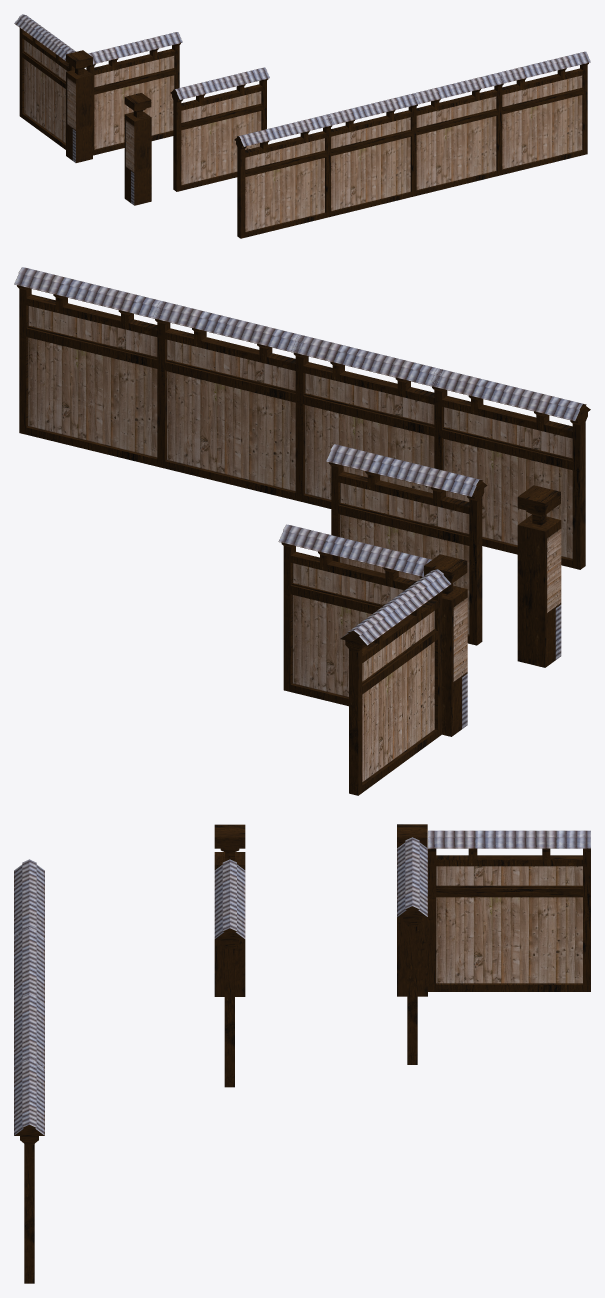
Rendered from japanese_style_fence.glb.
The picture shows the model from 3 angles, top to bottom: view 1: azimuth 30°, elevation 25°; view 2: azimuth 150°, elevation 25°; view 3: azimuth 270°, elevation 25°; orthographic projection. The views are drawn at different scales.
Parts seen in each view (by area): view 1: MainFence_4, MainFenceCorner, MainFence, FenceCornerPost; view 2: MainFence_4, MainFenceCorner, MainFence, FenceCornerPost; view 3: MainFenceCorner, MainFence_4, MainFence, FenceCornerPost.
Part boxes in pixels (box(x1,y1,x2,y2)): MainFence_4: box(234, 51, 590, 238); MainFenceCorner: box(14, 14, 182, 162); MainFence: box(170, 67, 269, 191); FenceCornerPost: box(124, 93, 151, 205); MainFence_4: box(14, 267, 590, 569); MainFenceCorner: box(278, 524, 467, 795); MainFence: box(326, 444, 487, 645); FenceCornerPost: box(517, 485, 561, 667); MainFenceCorner: box(397, 824, 590, 1064); MainFence_4: box(14, 859, 44, 1283); MainFence: box(214, 859, 245, 1087); FenceCornerPost: box(214, 824, 245, 996).
Bounding box in the file's own units: 87.17 × 21.57 × 70.74.
Materials: 1 (1 with a texture image).
